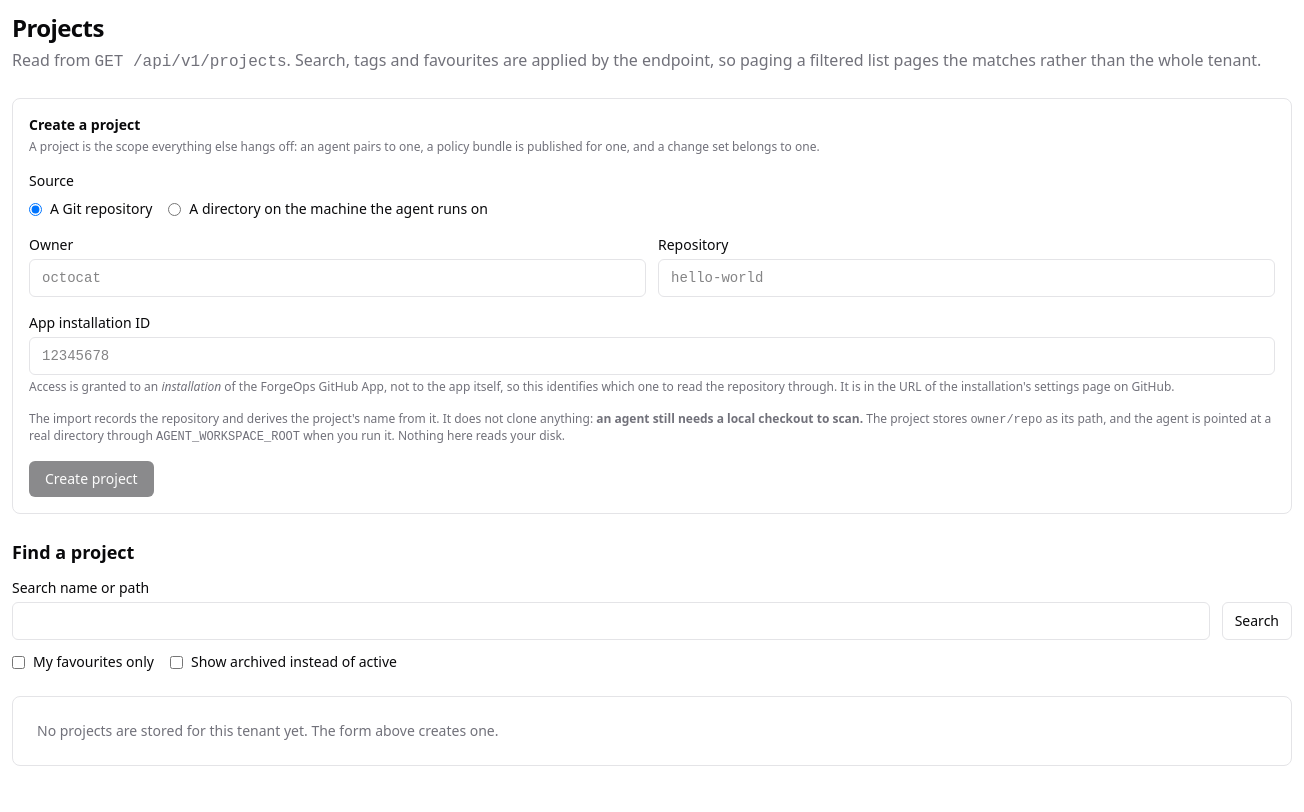
Test case: creating a project › will not submit without both required fields
Click the radio button labelled "A directory on the machine the agent runs on" at x=175, y=209, box [168,202,181,216]
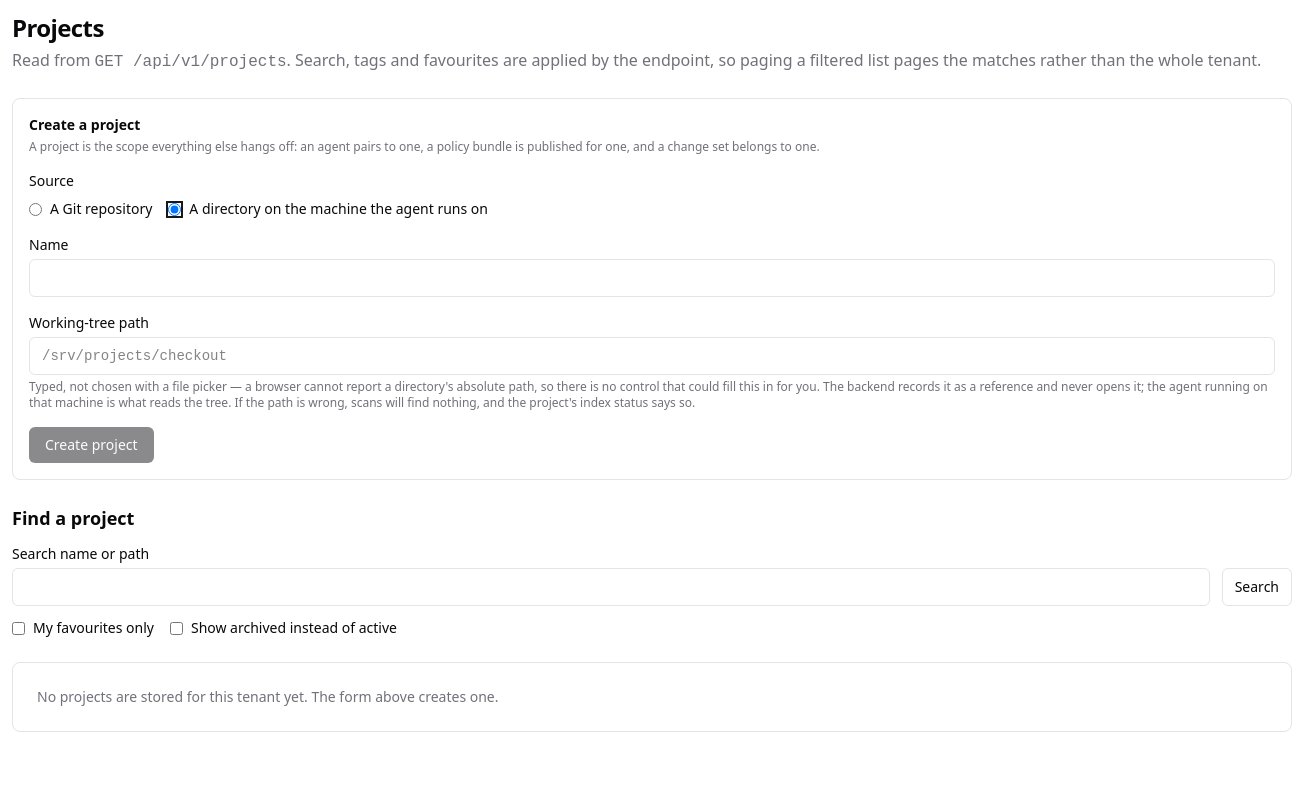
Expected: the button "Create project" is disabled, [29,427,154,463]
Type "Only a name" into the field labelled "Name" at x=652, y=278, box [29,259,1275,297]
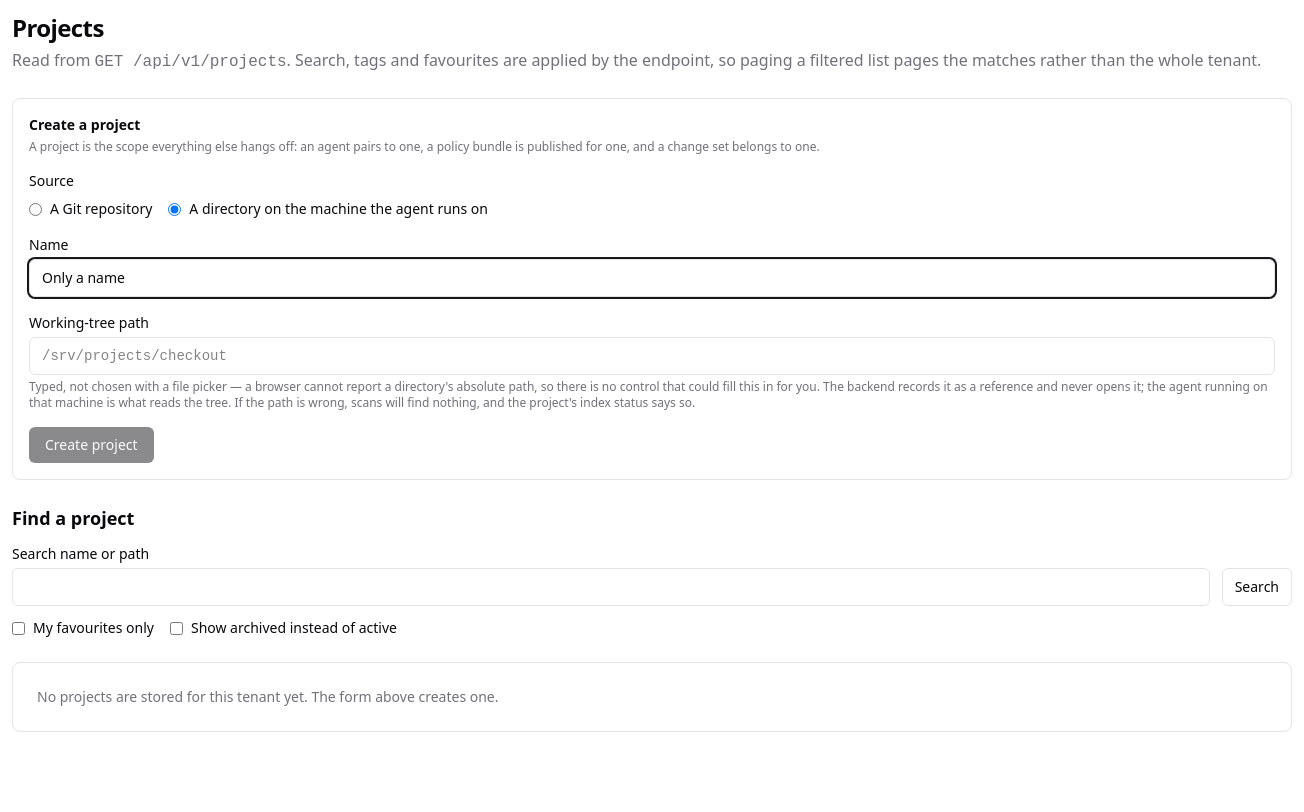
Expected: the button "Create project" is disabled, [29,427,154,463]
Type "/srv/x" into the field labelled "Working-tree path" at x=652, y=356, box [29,337,1275,375]
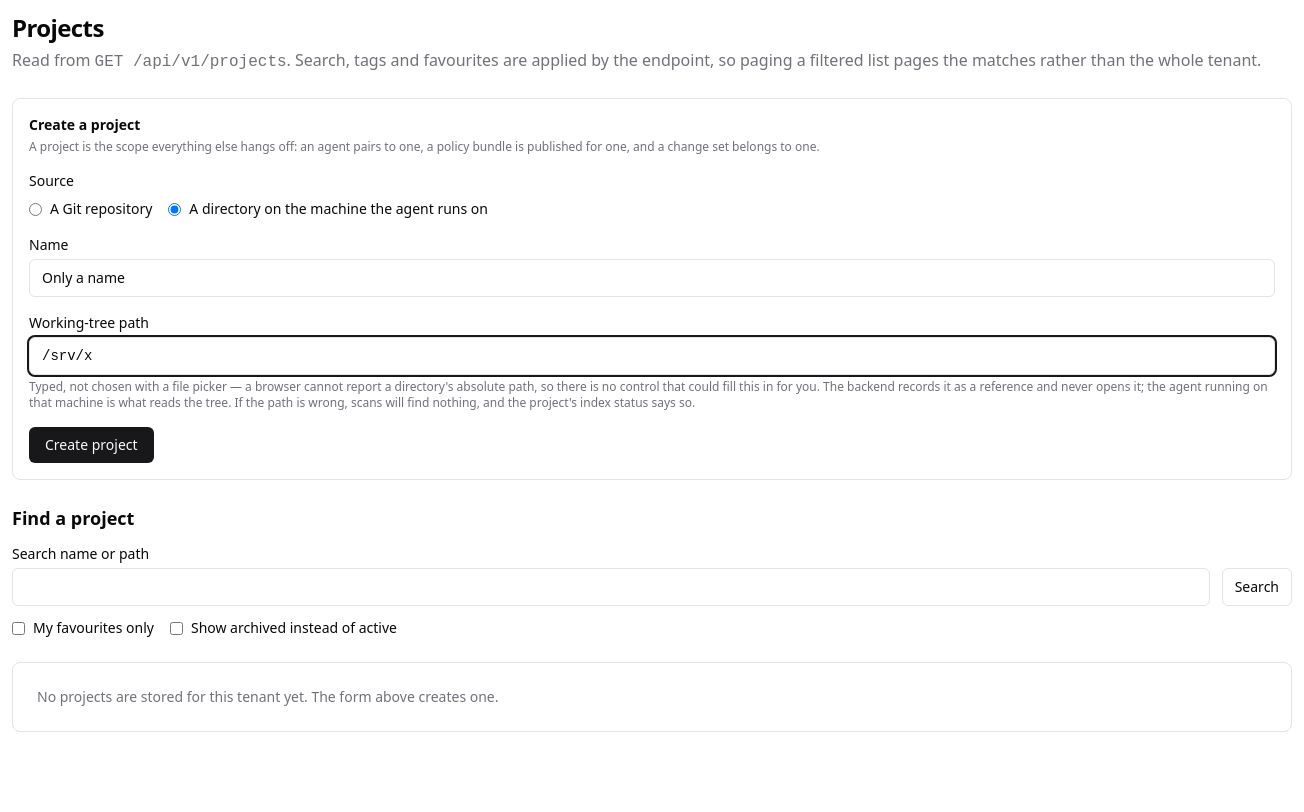
Expected: the button "Create project" is enabled, [29,427,154,463]
